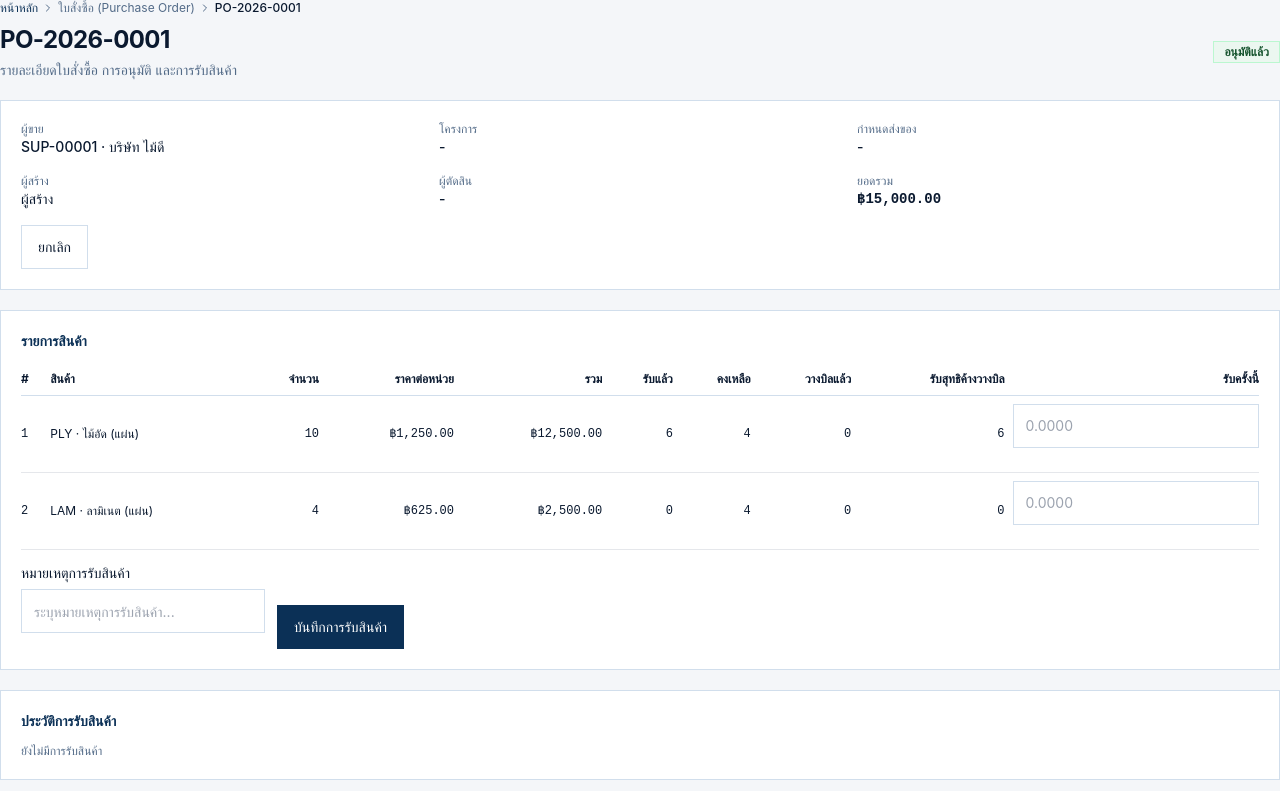
Test: PurchaseOrderDetail › refuses an empty receipt and maps an over-receipt error
Step 1. Click the button "บันทึกการรับสินค้า" → coordinates (341, 627), box [277,605,404,649]
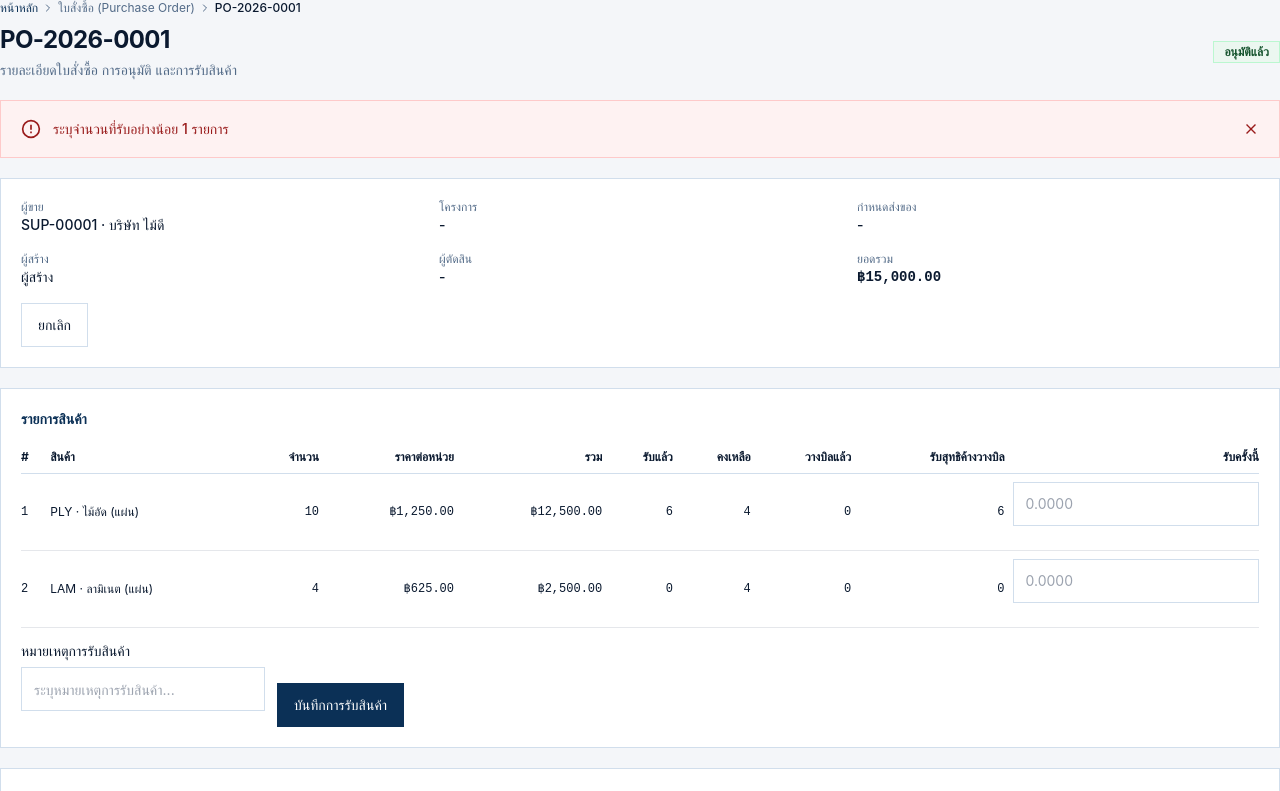
expect the text "ระบุจำนวนที่รับอย่างน้อย 1 รายการ" is shown: met, box [53,120,229,137]
Step 2. Type "9" into the number field with placeholder "0.0000" in the row of "LAM" → coordinates (1136, 581), box [1012,559,1259,603]
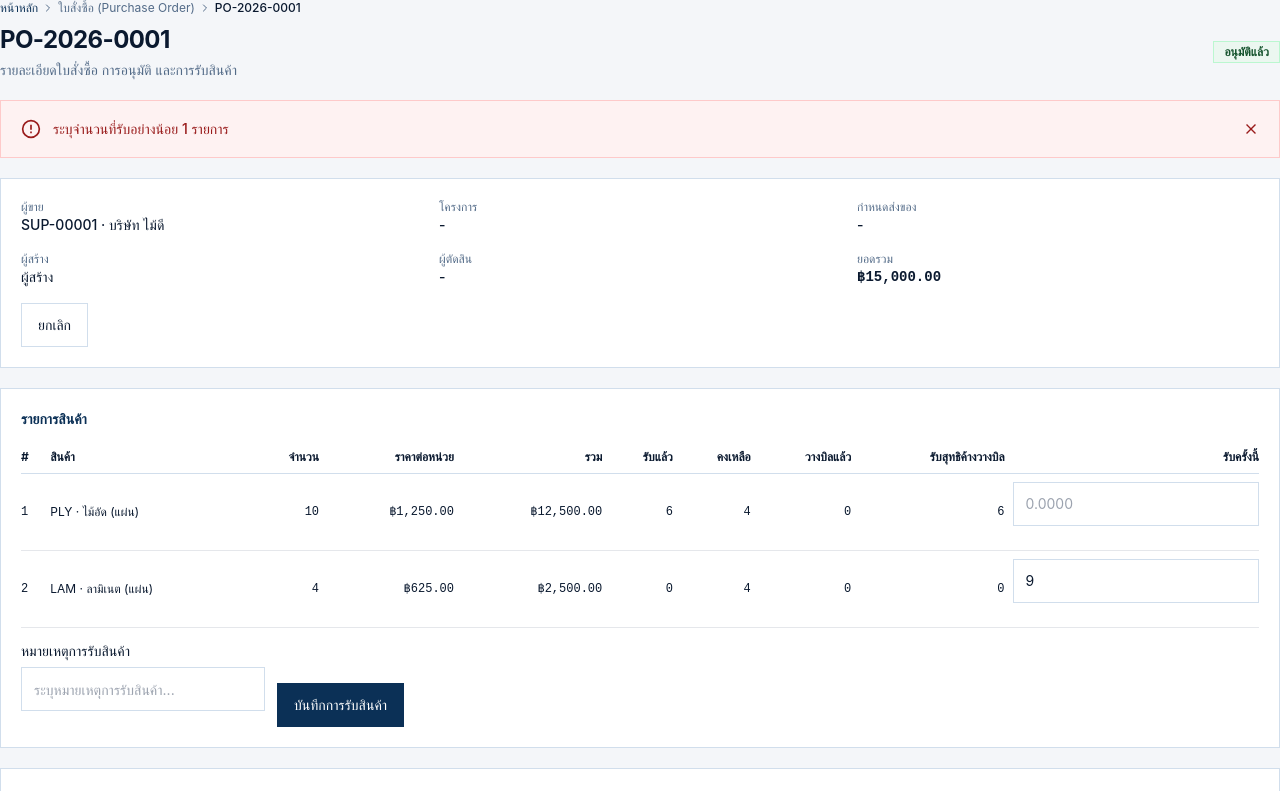
Step 3. Click the button "บันทึกการรับสินค้า" → coordinates (341, 705), box [277,683,404,727]
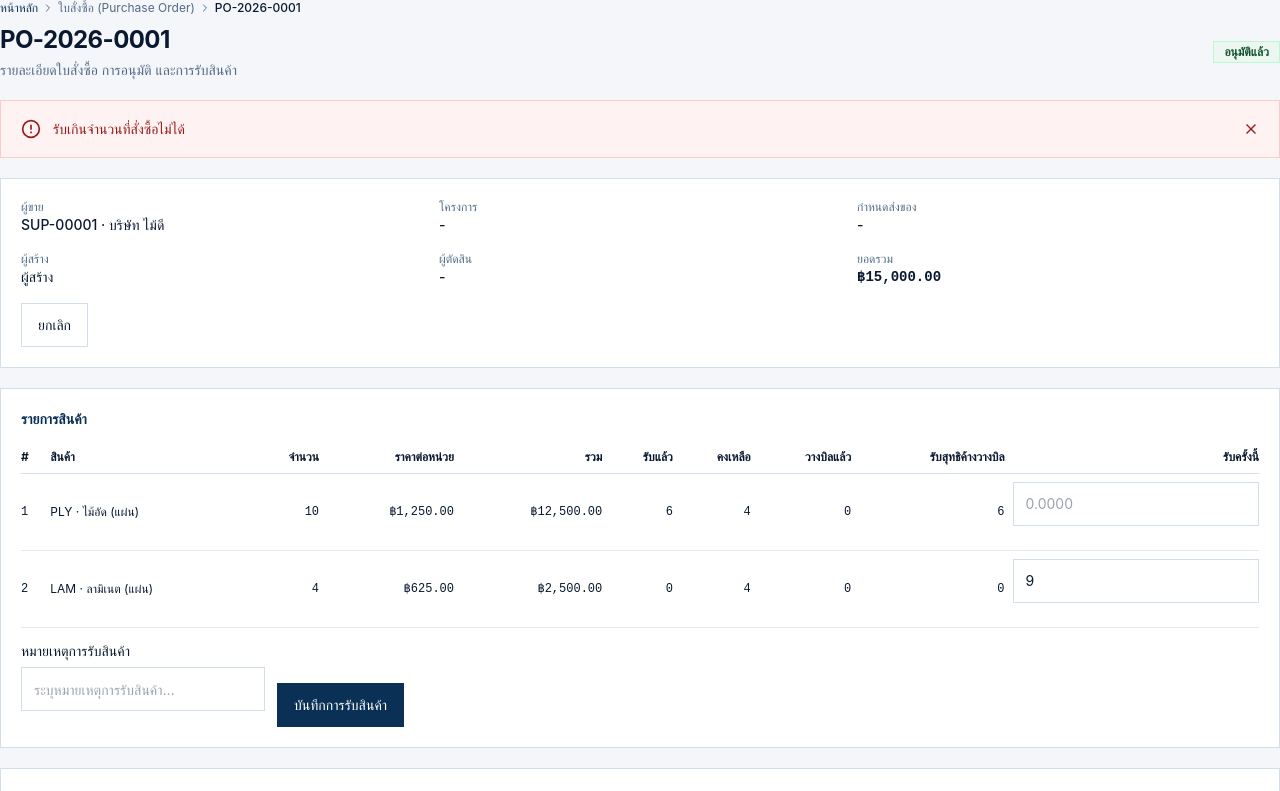
expect the text "รับเกินจำนวนที่สั่งซื้อไม่ได้" is shown: met, box [53,120,185,137]
